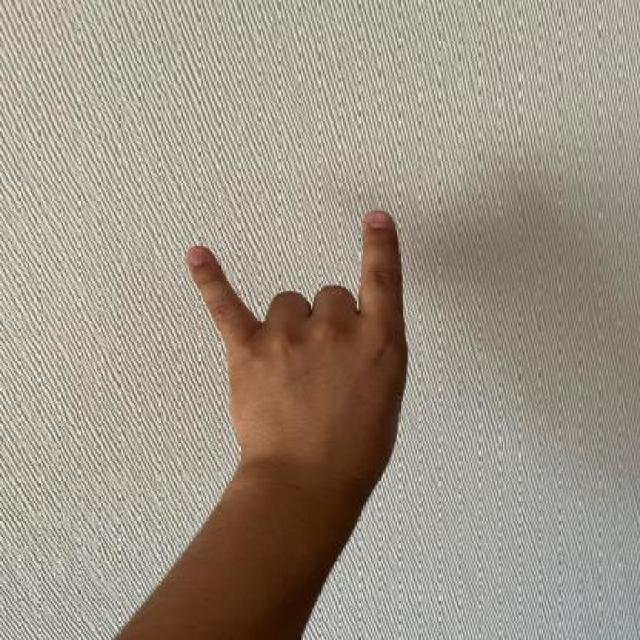U: (179, 206, 426, 465)
